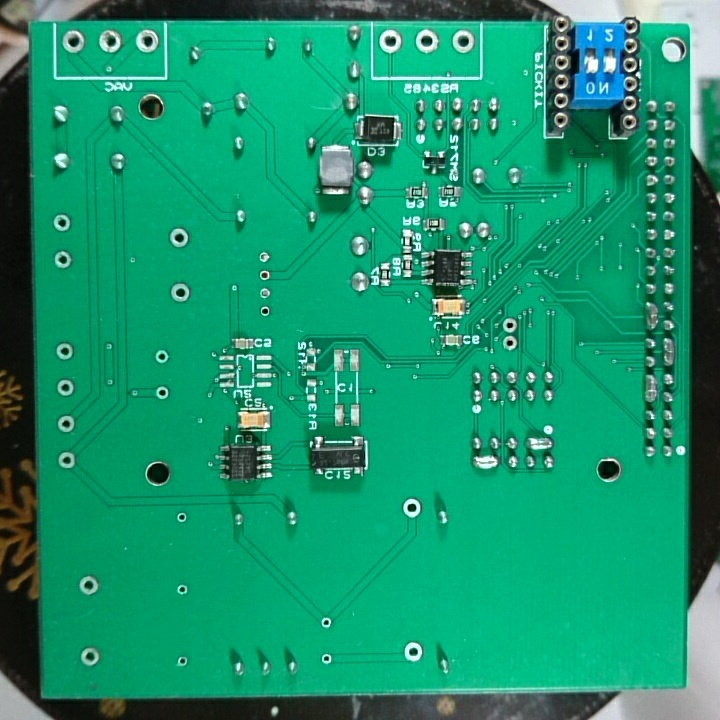F: (96, 26, 124, 58), (59, 29, 89, 58), (133, 27, 161, 57), (377, 26, 404, 56), (414, 26, 439, 57), (77, 645, 105, 671), (451, 27, 475, 56), (168, 280, 194, 306), (399, 495, 425, 520), (167, 225, 189, 252), (77, 572, 99, 597), (402, 640, 424, 664), (52, 247, 74, 271), (54, 340, 76, 364), (54, 376, 76, 399), (55, 413, 77, 436), (51, 211, 72, 235), (55, 450, 77, 471), (500, 333, 519, 355), (256, 284, 275, 303), (500, 315, 519, 333), (153, 347, 171, 366), (154, 383, 171, 403), (317, 615, 336, 632), (318, 649, 335, 668), (255, 249, 273, 266), (174, 581, 191, 598), (256, 266, 272, 283), (175, 653, 191, 669), (174, 509, 190, 525), (257, 304, 273, 320)
P: (469, 451, 502, 472), (659, 334, 678, 368), (642, 370, 659, 405), (642, 300, 659, 334), (522, 434, 554, 452)
